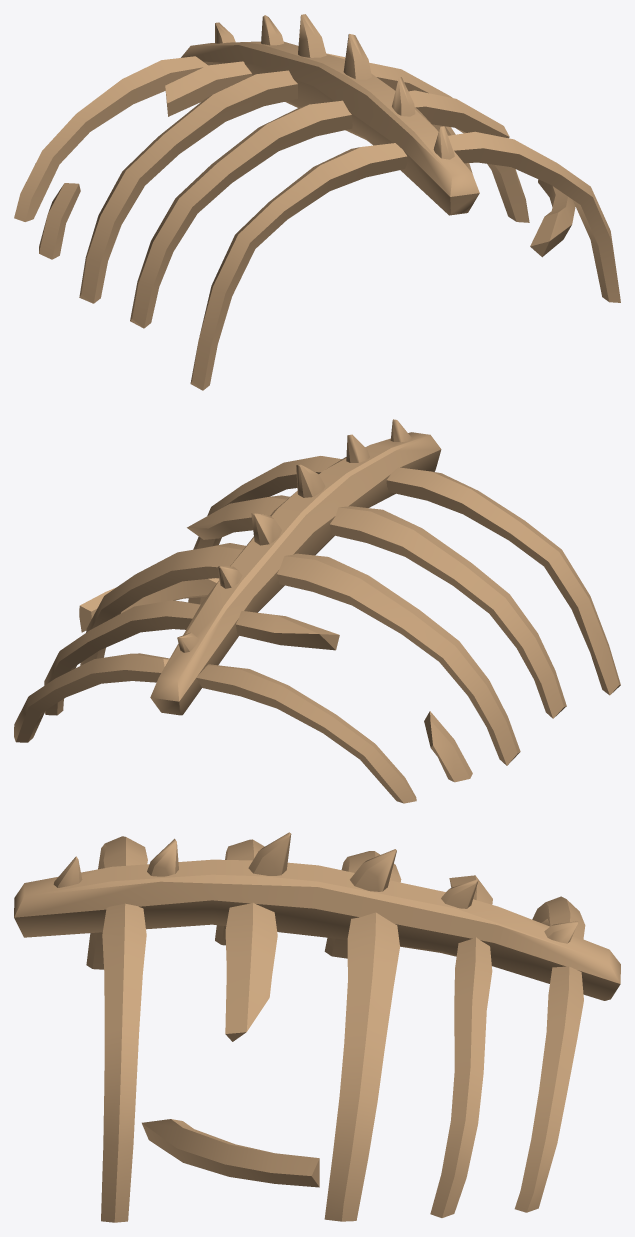
File: Environment_LargeBones.gltf
3 renders of one model, top to bottom at view 1: azimuth 30°, elevation 25°; view 2: azimuth 150°, elevation 25°; view 3: azimuth 270°, elevation 25°, orthographic. The views are drawn at different scales.
Parts seen in each view (by area): view 1: Environment_LargeBones; view 2: Environment_LargeBones; view 3: Environment_LargeBones.
Boxes of the visible parts, <box> form: Environment_LargeBones: <box>14,14,620,390</box>; Environment_LargeBones: <box>14,419,620,803</box>; Environment_LargeBones: <box>14,832,620,1222</box>.
Size of the model in its own units: 6.5 by 3.42 by 6.59.
Materials: 1 (1 with a texture image).
